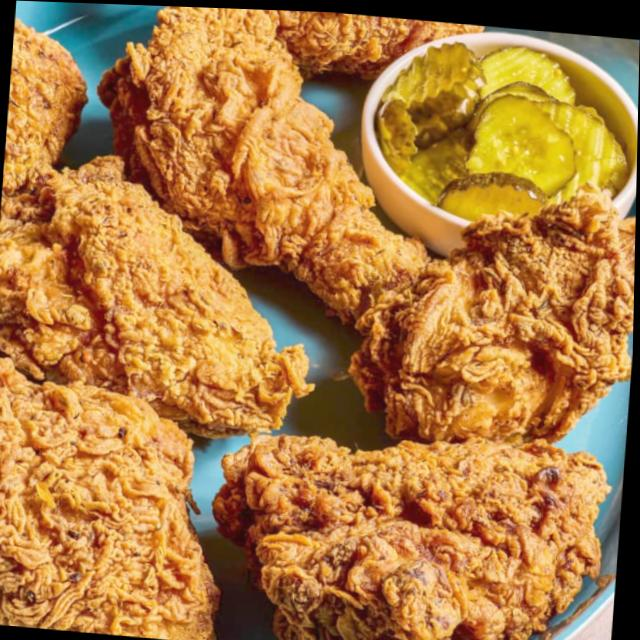fried_chicken: (83, 3, 440, 331), (0, 143, 330, 447), (203, 410, 610, 640), (344, 164, 637, 462), (0, 355, 231, 640), (262, 10, 493, 89), (2, 17, 91, 199)
